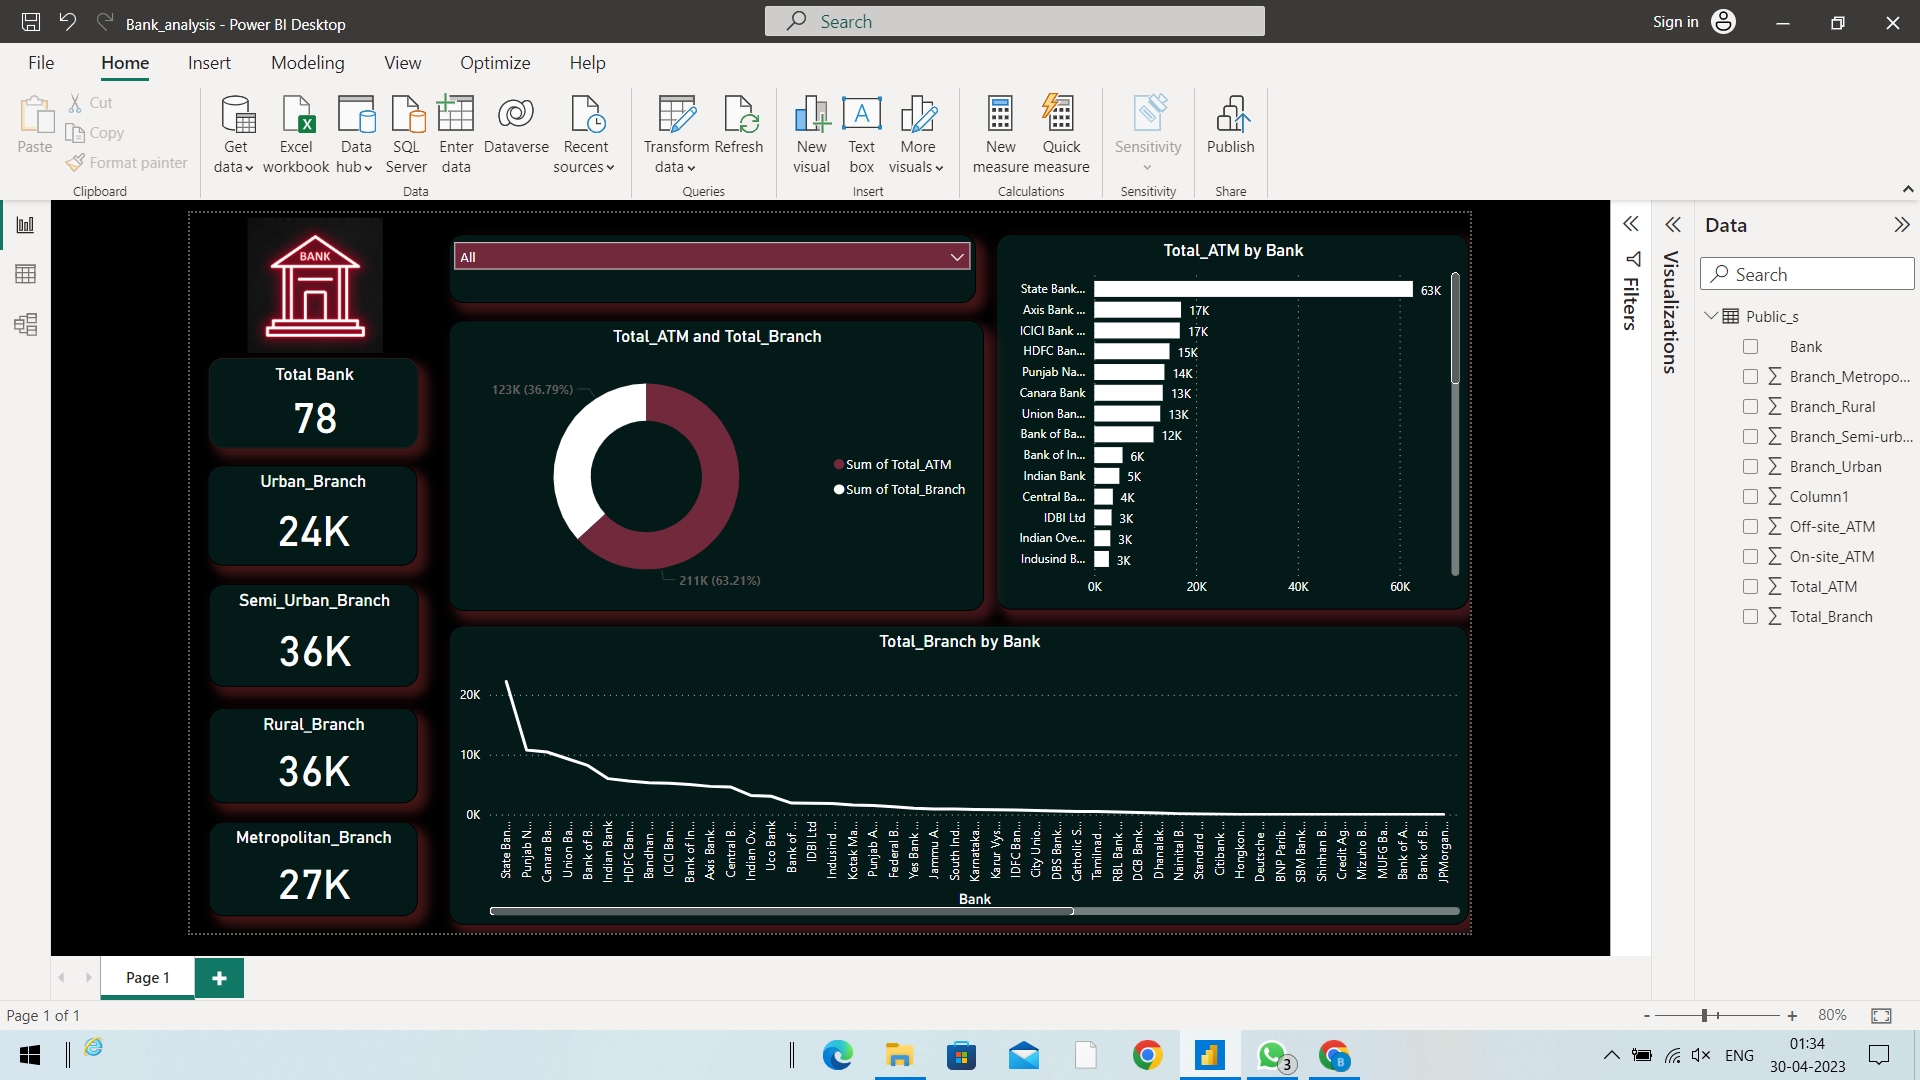

This screenshot's page, from the dashboard's own definition file:
{"tool":"powerbi","page":{"name":"Page 1","canvas":[1280,720],"ordinal":0},"visuals":[{"type":"card","title":"Metropolitan_Branch","fields":{"Values":["Sum(Public_s.Branch_Metropolitan)"]},"box":[19.3,609,208.6,94.1],"z":0},{"type":"card","title":"Rural_Branch","fields":{"Values":["Sum(Public_s.Branch_Rural)"]},"box":[19.3,494.5,208.6,95.3],"z":1000},{"type":"card","title":"Semi_Urban_Branch","fields":{"Values":["Sum(Public_s.Branch_Semi-urban)"]},"box":[19.3,371.5,209.8,102.5],"z":2000},{"type":"card","title":"Urban_Branch","fields":{"Values":["Sum(Public_s.Branch_Urban)"]},"box":[18.1,252.1,209.8,100.1],"z":3000},{"type":"lineChart","title":"Total_Branch by Bank","fields":{"Category":["Public_s.Bank"],"Y":["Sum(Public_s.Total_Branch)"]},"box":[259.3,412.5,1020.3,299.1],"z":4000},{"type":"clusteredBarChart","title":"Total_ATM by Bank","fields":{"Category":["Public_s.Bank"],"Y":["Sum(Public_s.Total_ATM)"]},"box":[806.8,21.7,472.8,375.1],"z":5000},{"type":"donutChart","title":"Total_ATM and Total_Branch","fields":{"Y":["Sum(Public_s.Total_ATM)","Sum(Public_s.Total_Branch)"]},"box":[259.3,107.3,535.5,290.7],"z":6000},{"type":"card","title":"Total Bank ","fields":{"Values":["Count(Public_s.Bank)"]},"box":[19.3,144.7,209.8,90.5],"z":7000},{"type":"image","box":[0,0,250.9,144.7],"z":8000},{"type":"slicer","fields":{"Values":["Public_s.Bank"]},"box":[259.3,21.7,527,68.7],"z":9000}]}

Visuals, with their boxes on the page's 1280x720 design canvas (x1, y1, x2, y2). These are canvas units, not pixel positions in the 1920x1080 screenshot, which may show the page scaled, cropped or inside an application window:
"Metropolitan_Branch" card: region(19, 609, 228, 703)
"Rural_Branch" card: region(19, 494, 228, 590)
"Semi_Urban_Branch" card: region(19, 372, 229, 474)
"Urban_Branch" card: region(18, 252, 228, 352)
"Total_Branch by Bank" lineChart: region(259, 412, 1280, 712)
"Total_ATM by Bank" clusteredBarChart: region(807, 22, 1280, 397)
"Total_ATM and Total_Branch" donutChart: region(259, 107, 795, 398)
"Total Bank " card: region(19, 145, 229, 235)
image: region(0, 0, 251, 145)
slicer - Public_s.Bank: region(259, 22, 786, 90)
